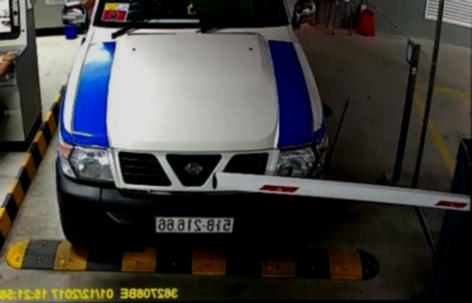License_Plate: (149, 211, 240, 236)
